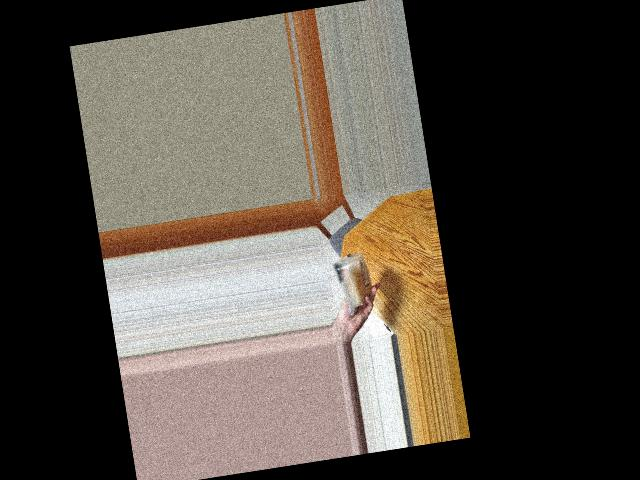cheese: (336, 255, 373, 306)
